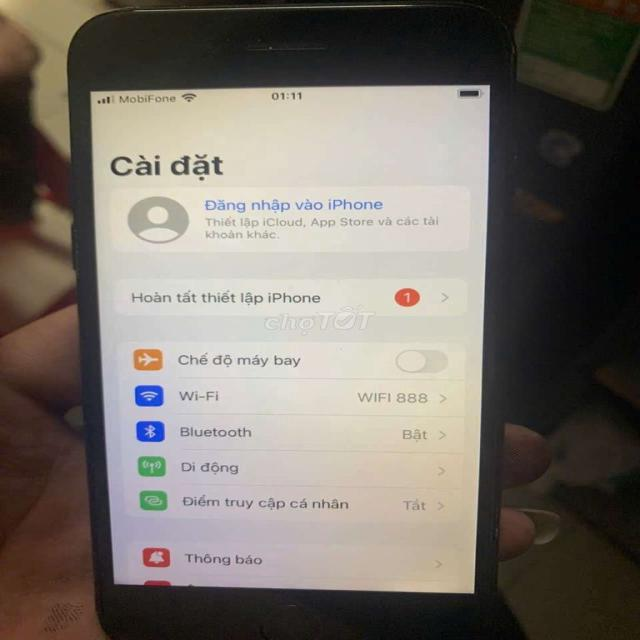scratch: (252, 32, 279, 54)
